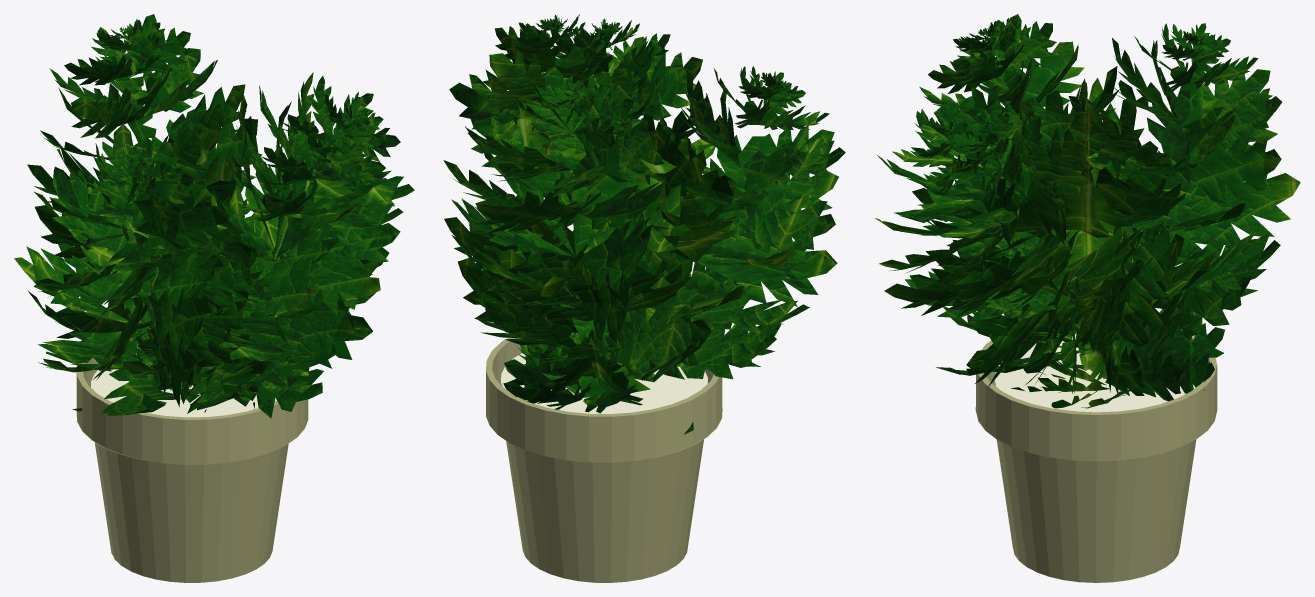
The model's file is plant.obj.
3 views of the same model, side by side, from view 1: azimuth 30°, elevation 25°; view 2: azimuth 150°, elevation 25°; view 3: azimuth 270°, elevation 25° (orthographic). The views are drawn at different scales.
Parts seen in each view (by area): view 1: (null); view 2: (null); view 3: (null).
Part boxes in pixels (box(x1,y1,x2,y2)): (null): box(14, 14, 414, 582); (null): box(443, 14, 845, 582); (null): box(875, 14, 1300, 582).
Bounding box in the file's own units: 57.13 × 74.02 × 56.11.
